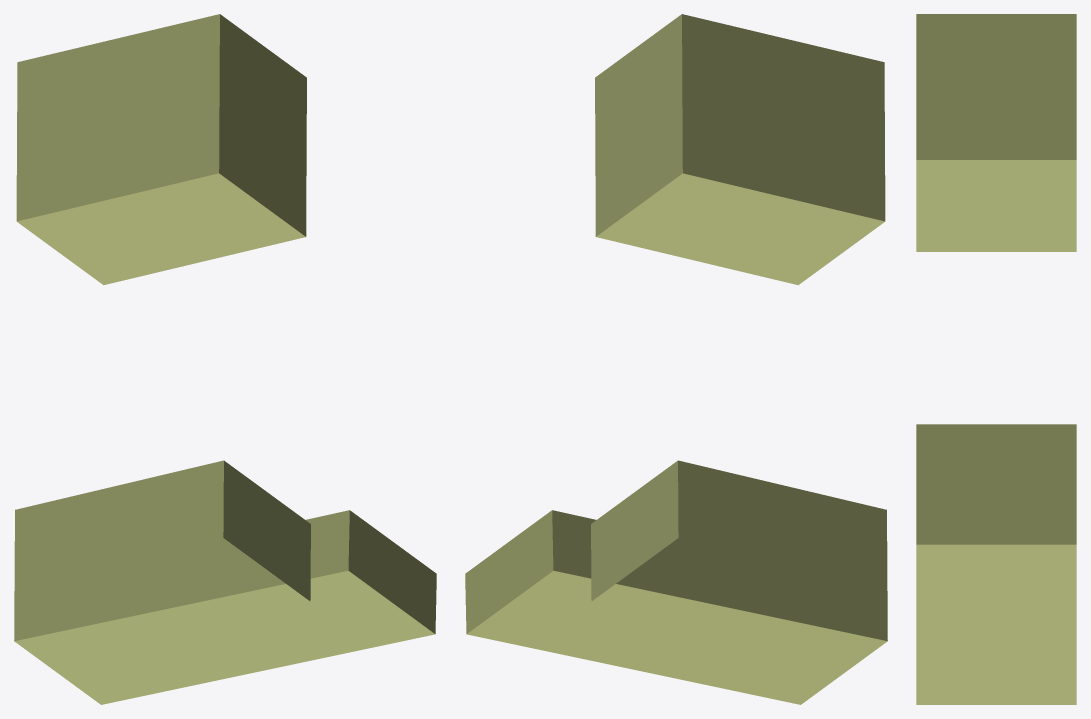
3 renders of one model, left to right at view 1: azimuth 30°, elevation 25°; view 2: azimuth 150°, elevation 25°; view 3: azimuth 270°, elevation 25°, orthographic. The views are drawn at different scales.
Parts seen in each view (by area): view 1: 0_3_1_3_3_3_1_1_3_3; view 2: 0_3_1_3_3_3_1_1_3_3; view 3: 0_3_1_3_3_3_1_1_3_3.
Boxes of the visible parts, bbox=[...] form: 0_3_1_3_3_3_1_1_3_3: bbox=[14, 14, 436, 704]; 0_3_1_3_3_3_1_1_3_3: bbox=[465, 14, 887, 704]; 0_3_1_3_3_3_1_1_3_3: bbox=[916, 14, 1076, 704].
Size of the model in its own units: 13.36 by 22.41 by 6.
